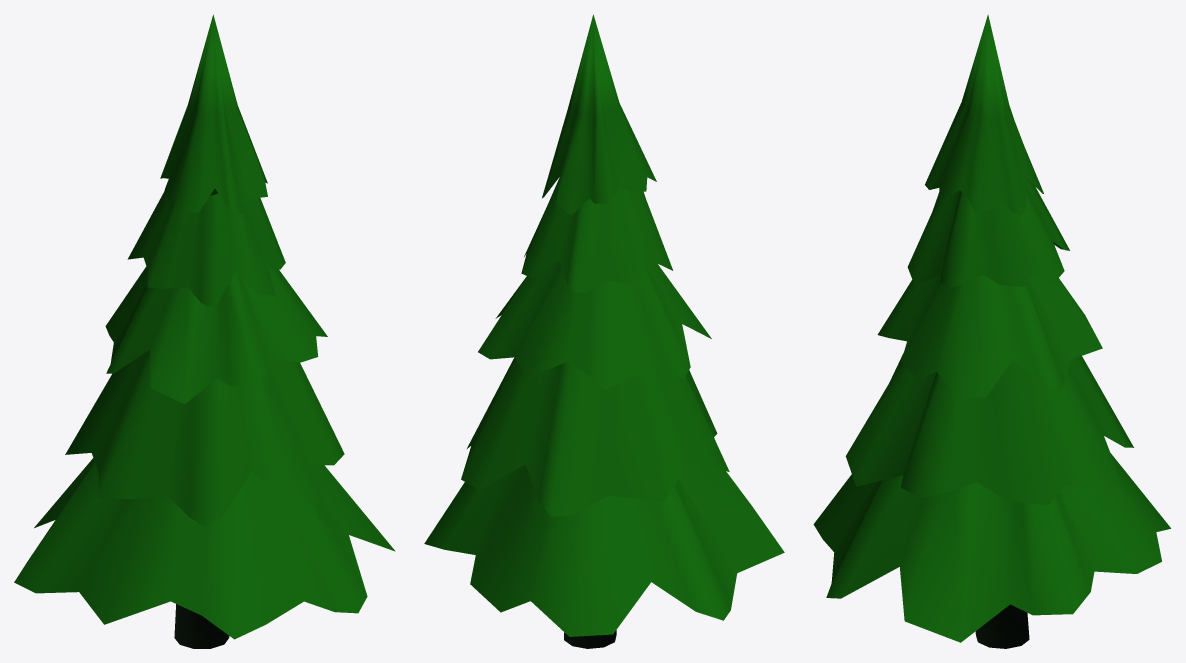
File: coloredTree1.obj
The picture shows the model from 3 angles, left to right: view 1: azimuth 30°, elevation 25°; view 2: azimuth 150°, elevation 25°; view 3: azimuth 270°, elevation 25°; orthographic projection.
Parts seen in each view (by area): view 1: Resource_PineTree_Group; view 2: Resource_PineTree_Group; view 3: Resource_PineTree_Group.
Part boxes in pixels (x1,y1,x2,y2): Resource_PineTree_Group: [14, 14, 395, 648]; Resource_PineTree_Group: [424, 14, 784, 648]; Resource_PineTree_Group: [813, 14, 1170, 648].
Size of the model in its own units: 0.3957 by 0.7369 by 0.3822.
